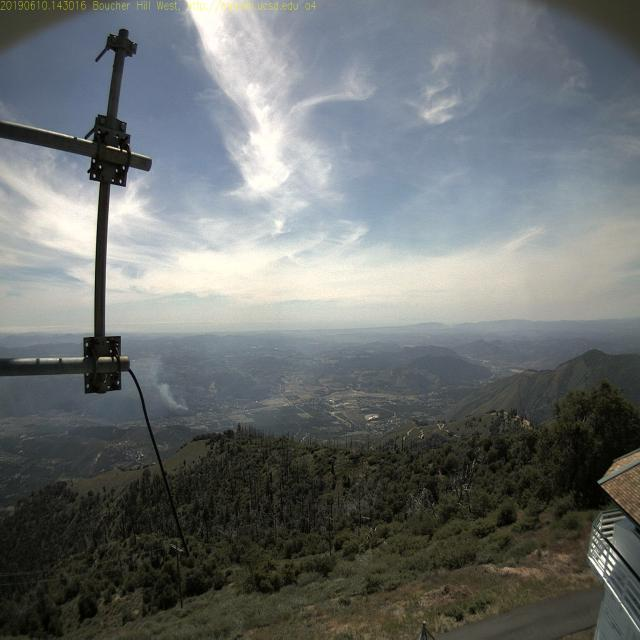smoke: (157, 372, 199, 427)
